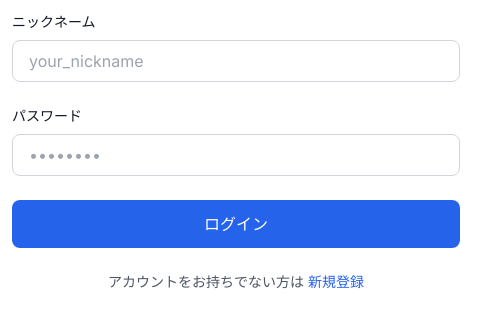
Test: LoginForm › User Input › should clear error when user types in field with error
Type invalid data
Type "ab" into the field labelled "ニックネーム" at (236, 61), box [12,40,460,82]
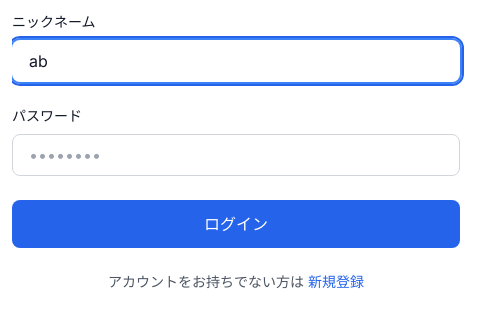
Type "password123" into the password field labelled "パスワード" at (236, 155), box [12,134,460,176]
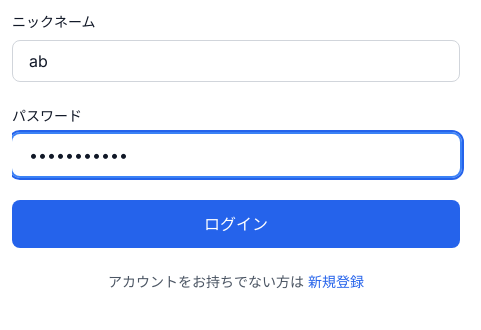
Submit the form named "ログインフォーム"
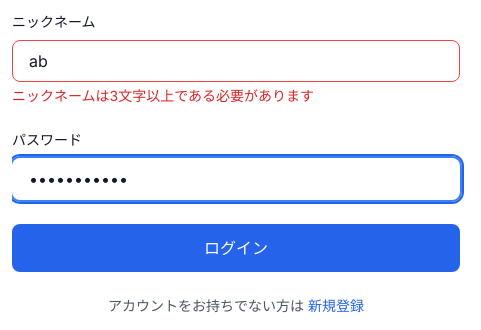
Check: the text "ニックネームは3文字以上である必要があります" is shown, box [12,87,314,104]
Type to fix the error
Type "c" into the field labelled "ニックネーム" at (236, 61), box [12,40,460,82]
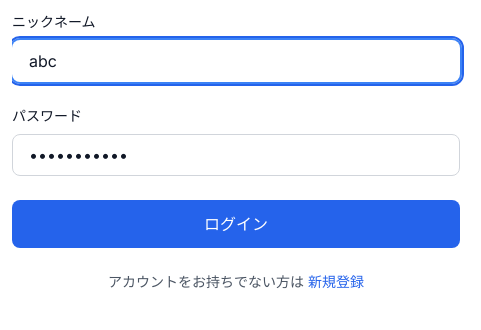
Check: the text "3文字以上である必要があります" is gone
